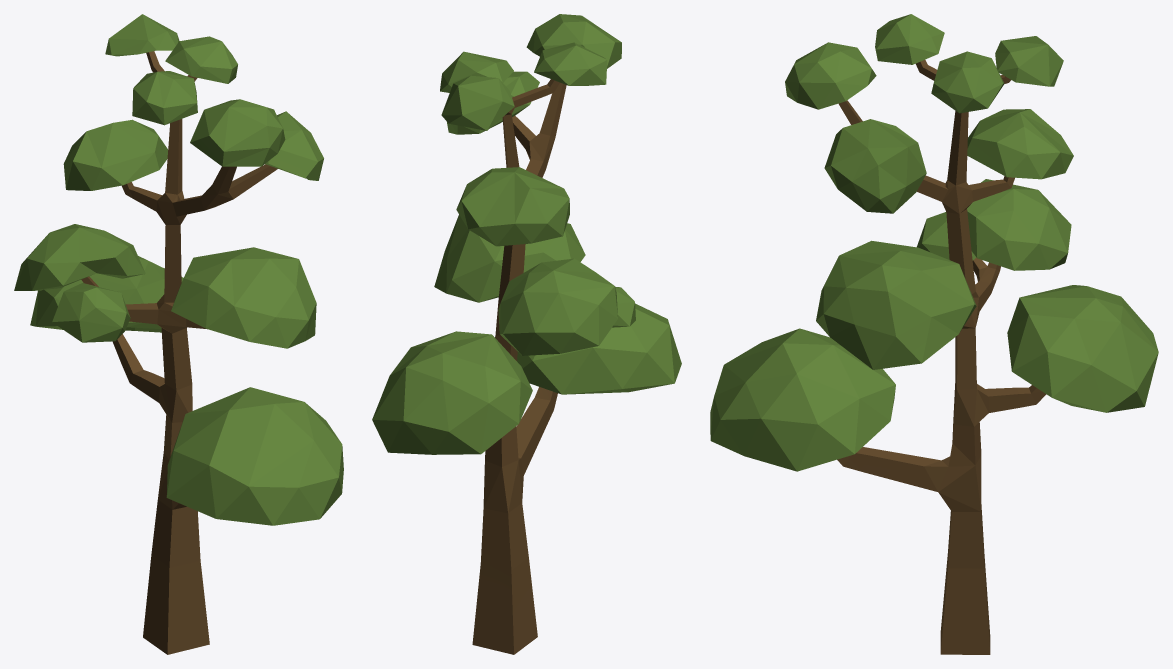
File: Tree_29.glb
3 views of the same model, side by side, from view 1: azimuth 30°, elevation 25°; view 2: azimuth 150°, elevation 25°; view 3: azimuth 270°, elevation 25° (orthographic). The views are drawn at different scales.
Visible parts, largest first — view 1: Tree_29_LOD0; view 2: Tree_29_LOD0; view 3: Tree_29_LOD0.
Boxes of the visible parts, x1,y1,x2,y2 form: Tree_29_LOD0: (14,14,343,654); Tree_29_LOD0: (372,14,681,654); Tree_29_LOD0: (710,14,1158,654).
Size of what is drawn, in the model's own units: 2.58 by 6.41 by 4.29.
1 material, 1 textured.
